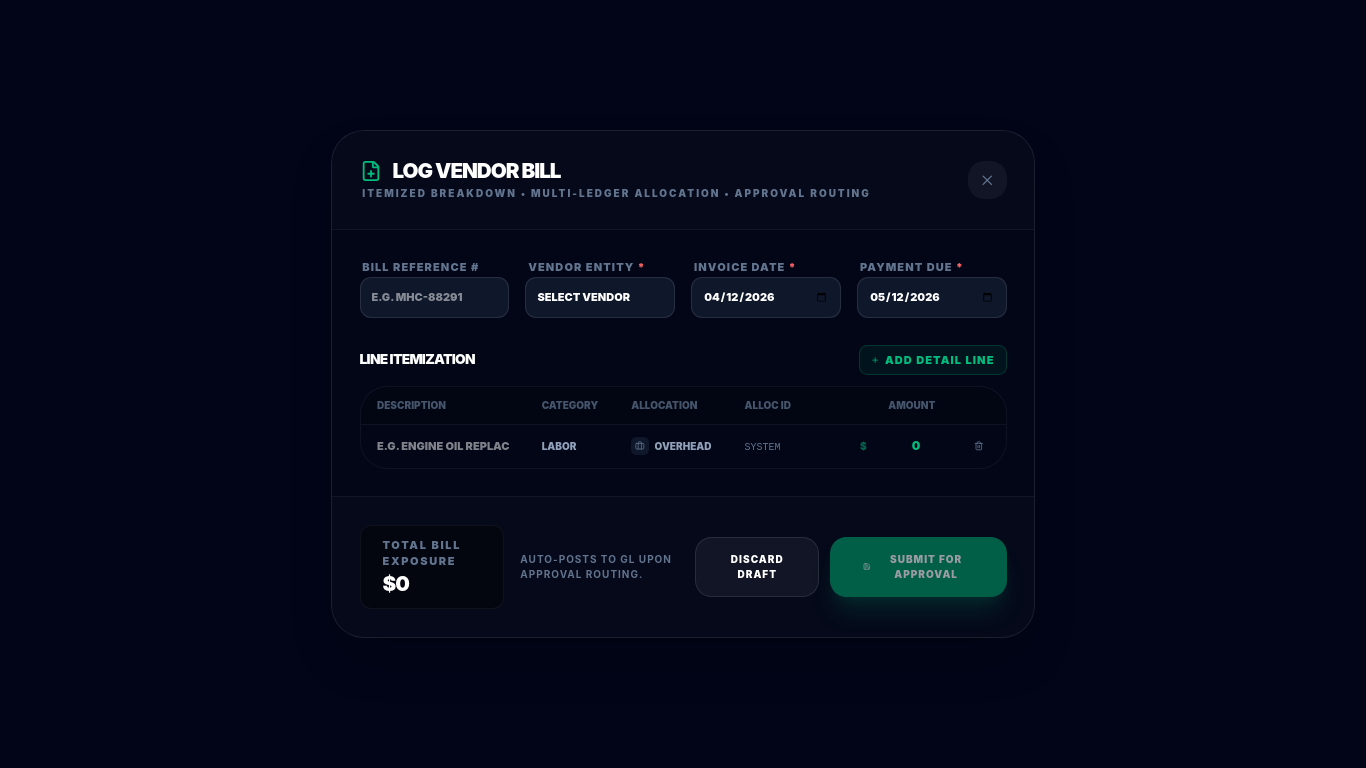
Scenario: AccountingBillForm component › adds a new line when Add Detail Line is clicked
Click the button "Add Detail Line": (933,360) [859,345,1006,375]
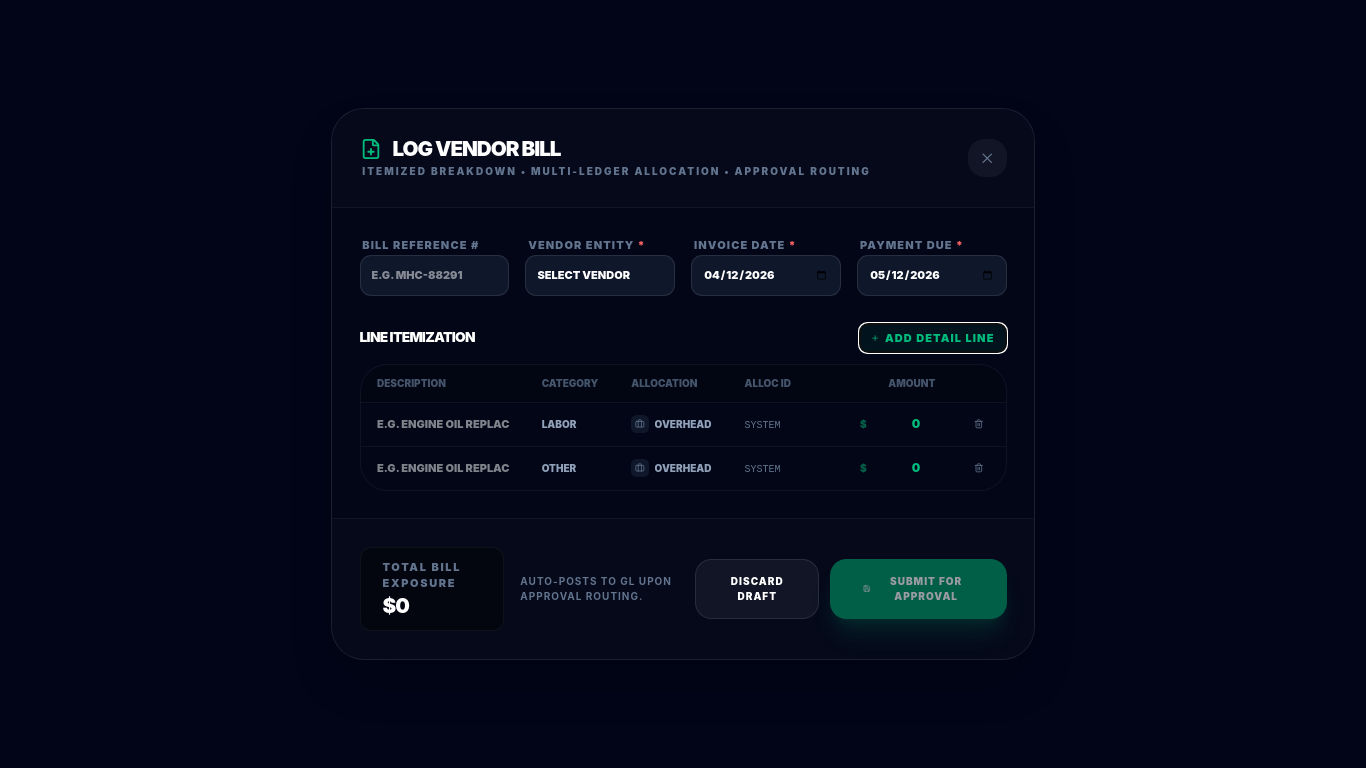
Check: the number of fields with placeholder "E.G. ENGINE OIL REPLACEMENT" is 2, box [377,416,509,433]; [377,460,509,477]
